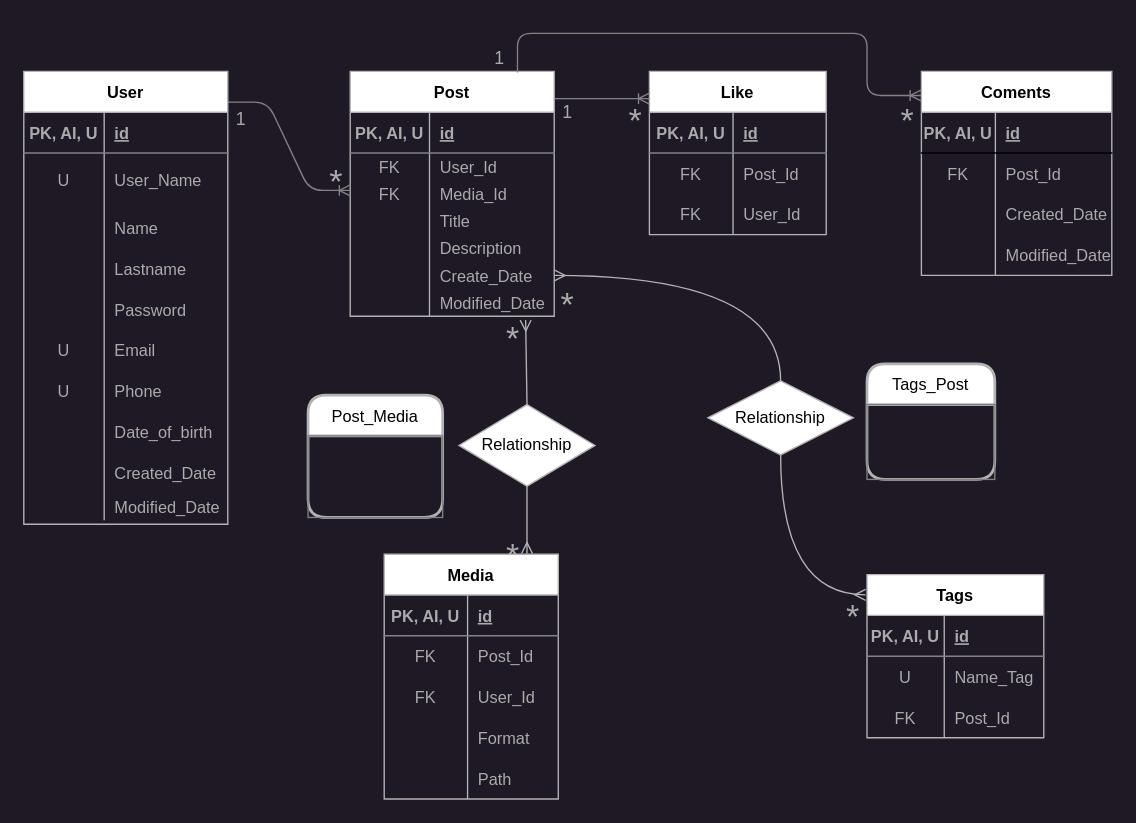
The diagram is 1136 pixels wide and 823 high, and some of its shapes have lost their labels. The shapes that lost their labels are listed below. From the top down, each one's centre as x and y in pixels, then its label:
point (930, 441): Id Tags_Id Post_Id
point (375, 476): Id Media_Id Post_Id
